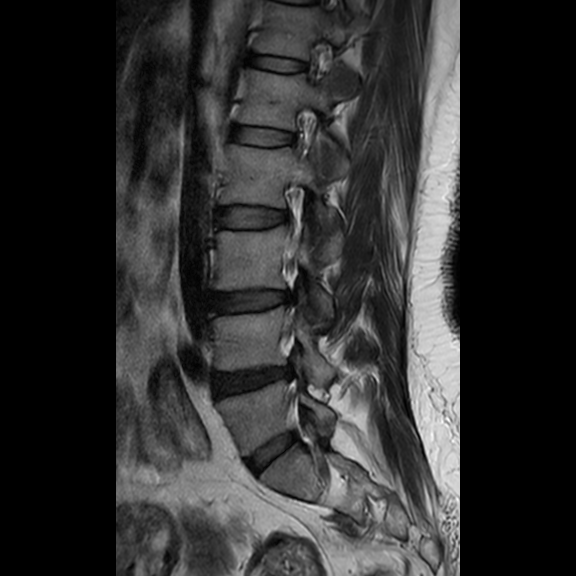RFS0: (274, 98, 326, 167)
